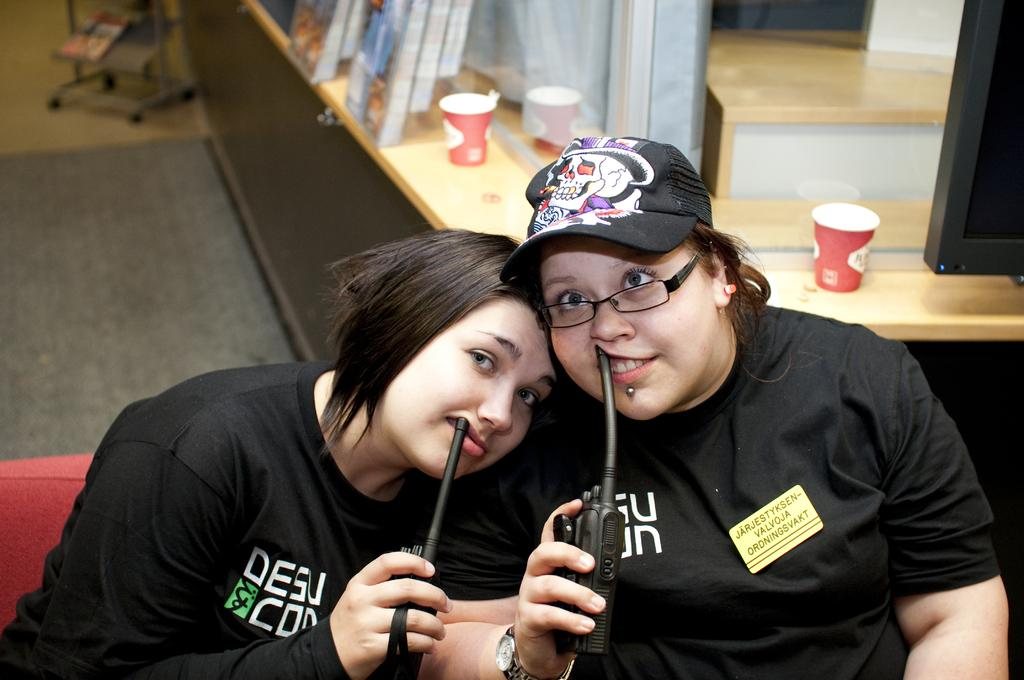Hat: (499, 133, 709, 279)
